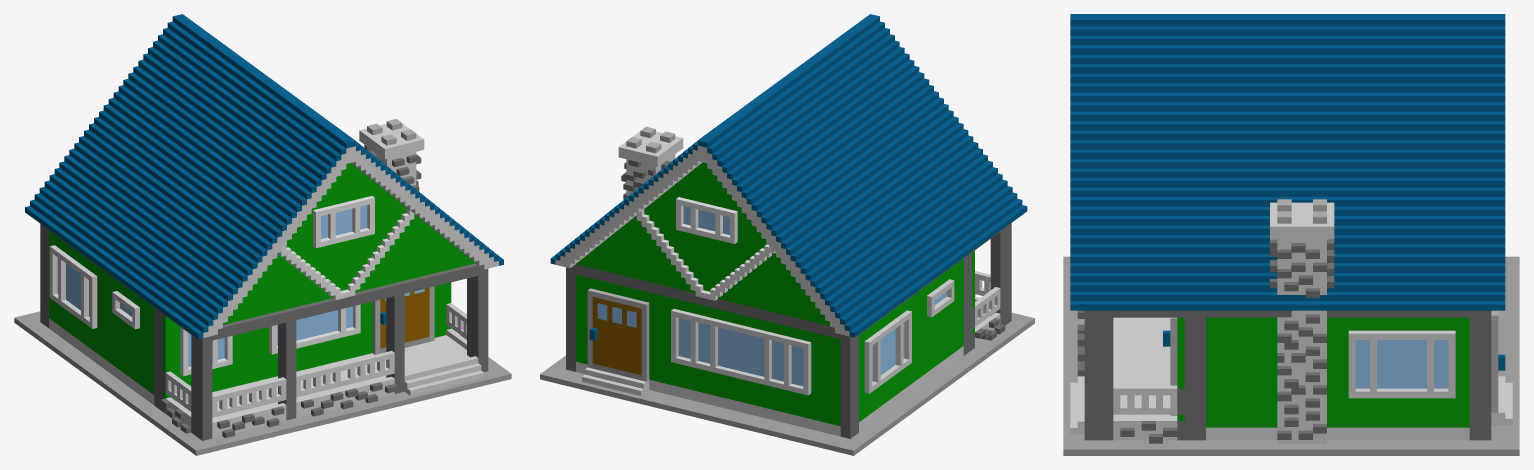
Rendered from obj_house3c.obj.
3 views of the same model, side by side, from view 1: azimuth 30°, elevation 25°; view 2: azimuth 150°, elevation 25°; view 3: azimuth 270°, elevation 25° (orthographic). The views are drawn at different scales.
Size of the model in its own units: 6.4 by 5.3 by 6.4.
Materials: 1 (1 with a texture image).
